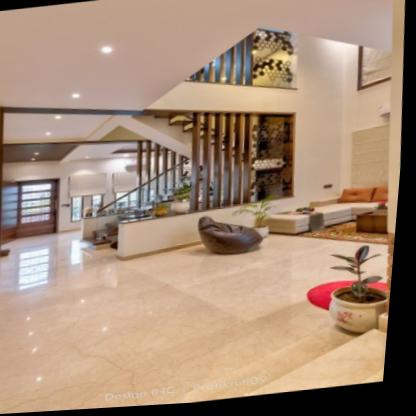Ceramic floor: (0, 233, 399, 415), (3, 228, 97, 292)
